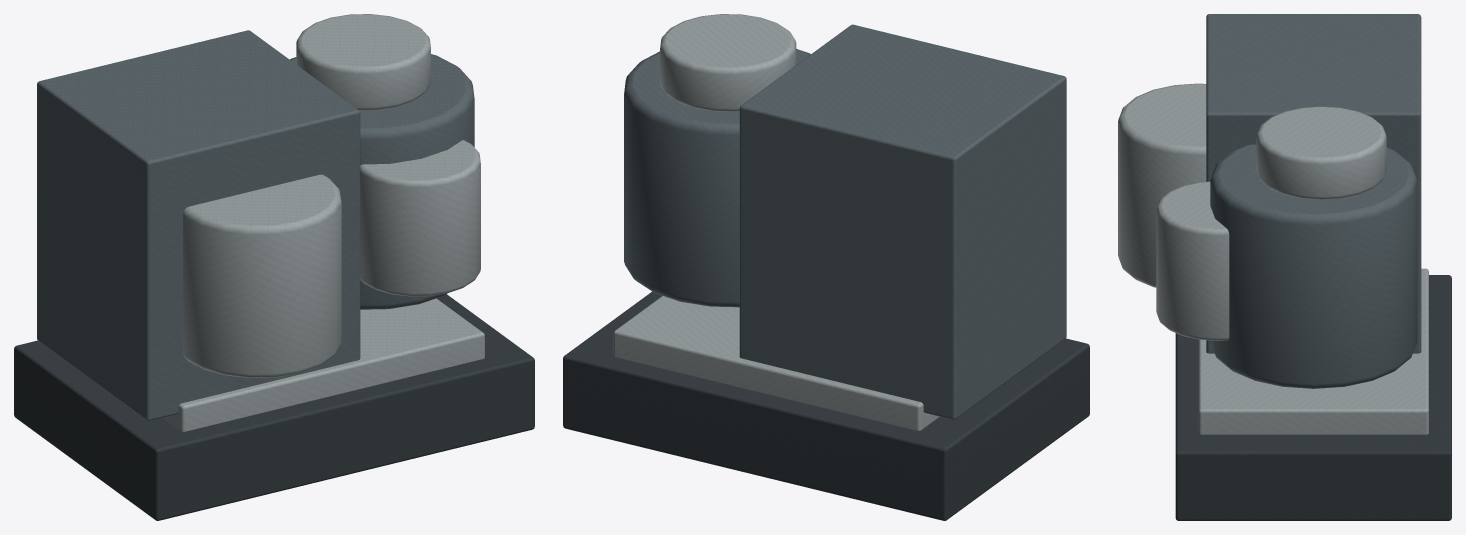
The model's file is IndustrialWaterPump.fbx.
The picture shows the model from 3 angles, left to right: view 1: azimuth 30°, elevation 25°; view 2: azimuth 150°, elevation 25°; view 3: azimuth 270°, elevation 25°; orthographic projection. The views are drawn at different scales.
Parts seen in each view (by area): view 1: IndustrialWaterPump_Mesh; view 2: IndustrialWaterPump_Mesh; view 3: IndustrialWaterPump_Mesh.
Part boxes in pixels (x1=…): IndustrialWaterPump_Mesh: x1=14, y1=14, x2=534, y2=520; IndustrialWaterPump_Mesh: x1=563, y1=14, x2=1089, y2=520; IndustrialWaterPump_Mesh: x1=1118, y1=14, x2=1451, y2=520.
Bounding box in the file's own units: 110 × 99 × 87.
4 materials, 4 textured.
